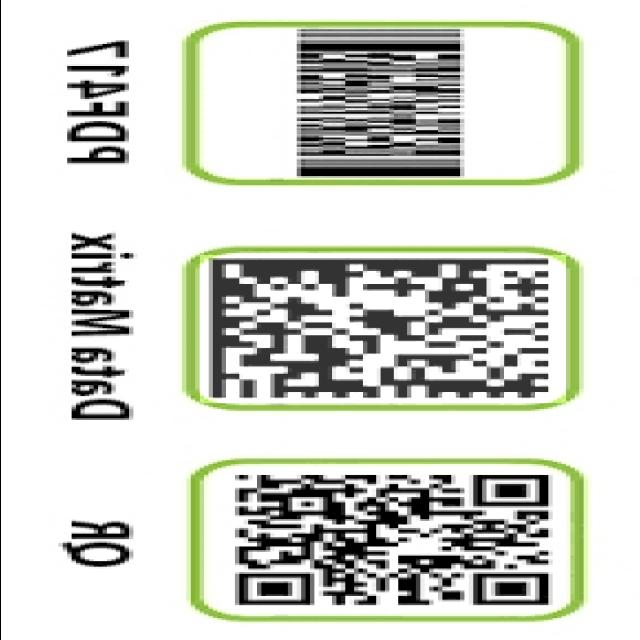DataMatrix: (199, 255, 565, 403)
